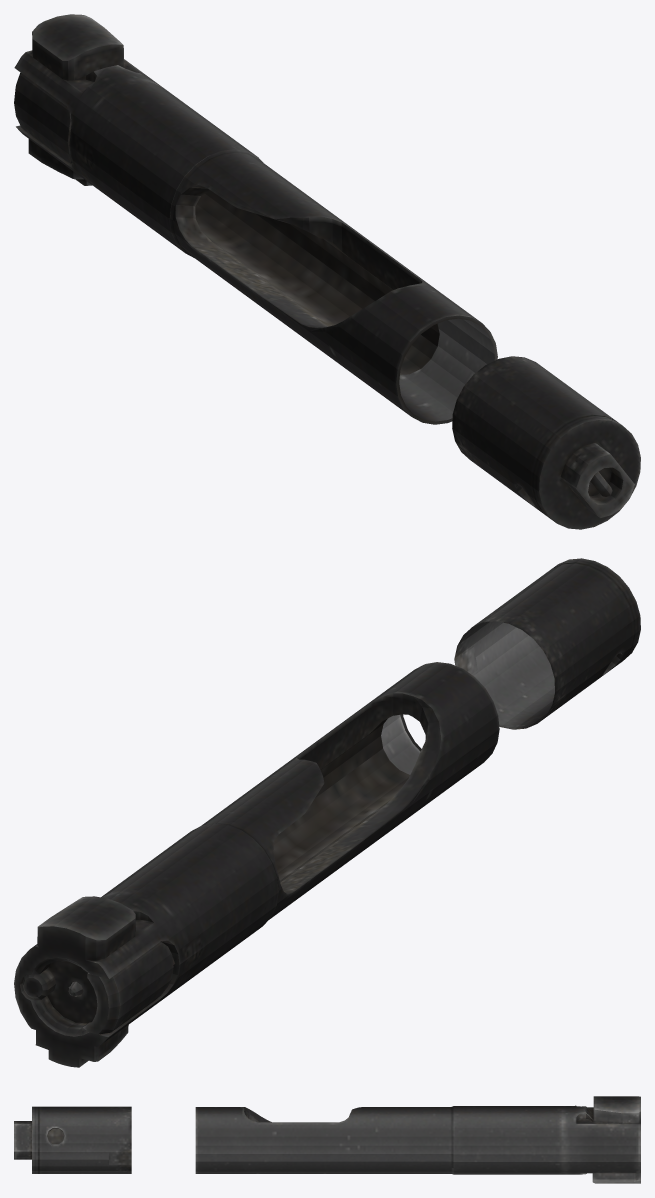
3 renders of one model, top to bottom at view 1: azimuth 30°, elevation 25°; view 2: azimuth 150°, elevation 25°; view 3: azimuth 270°, elevation 25°, orthographic. The views are drawn at different scales.
Visible parts, largest first — view 1: TW_661cec09b2c6356b4d0c7a36_PZ_Import; view 2: TW_661cec09b2c6356b4d0c7a36_PZ_Import; view 3: TW_661cec09b2c6356b4d0c7a36_PZ_Import.
Boxes of the visible parts, left/top/right/bottom form: TW_661cec09b2c6356b4d0c7a36_PZ_Import: left=14, top=14, right=640, bottom=529; TW_661cec09b2c6356b4d0c7a36_PZ_Import: left=14, top=558, right=640, bottom=1067; TW_661cec09b2c6356b4d0c7a36_PZ_Import: left=14, top=1096, right=640, bottom=1183.
Bounding box in the file's own units: 0.0113 × 0.1025 × 0.0144.
Materials: 1 (1 with a texture image).
